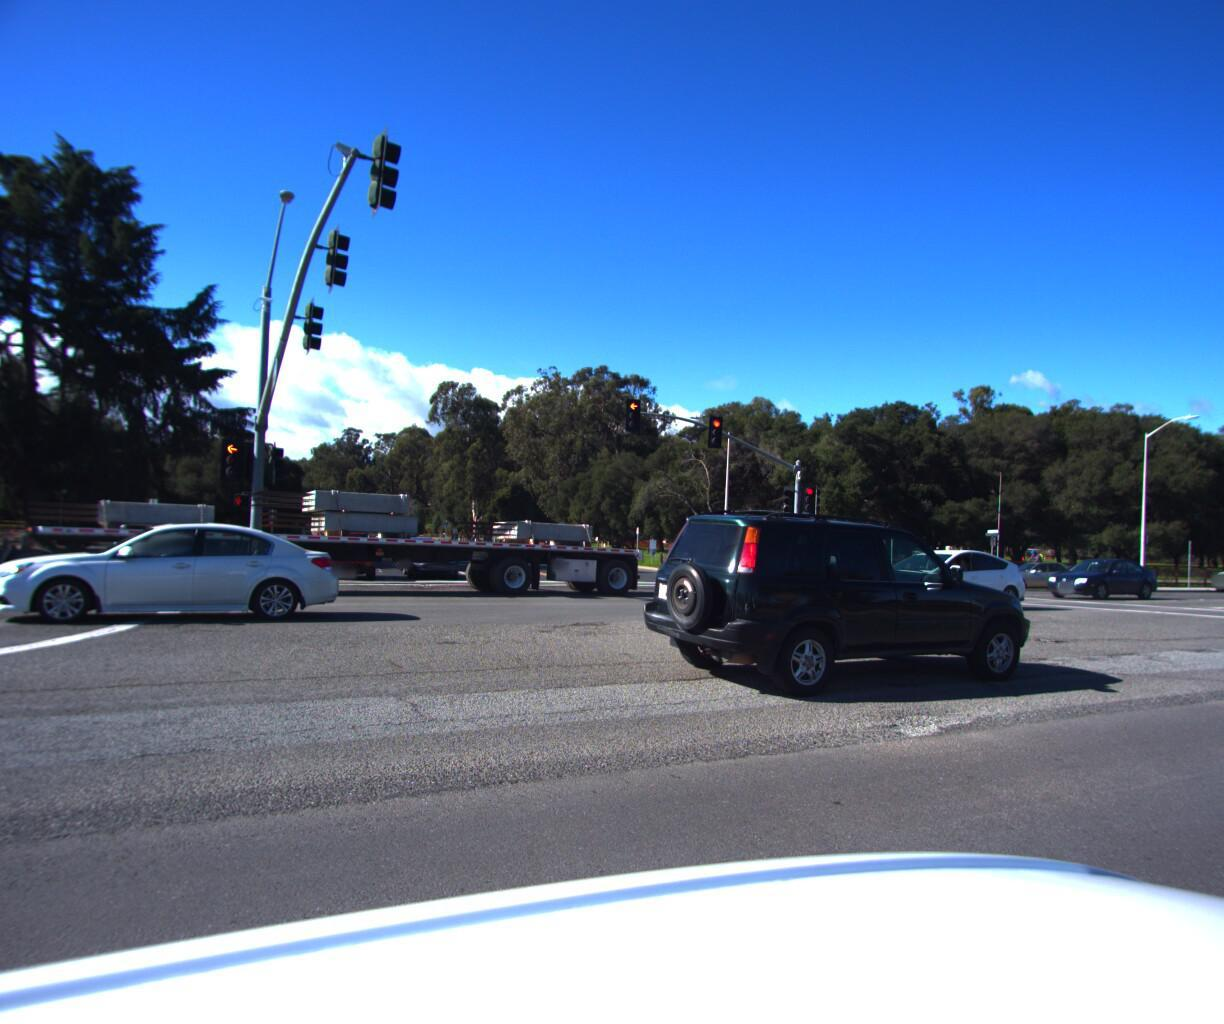bicycle: (1018, 546, 1053, 578)
car: (627, 498, 1067, 707), (0, 515, 341, 628), (857, 542, 1035, 609), (1037, 555, 1165, 597), (977, 556, 1087, 592), (312, 523, 380, 580), (399, 537, 463, 579), (389, 532, 445, 570), (1202, 553, 1224, 588), (1214, 555, 1224, 589)
truck: (0, 420, 676, 644)
